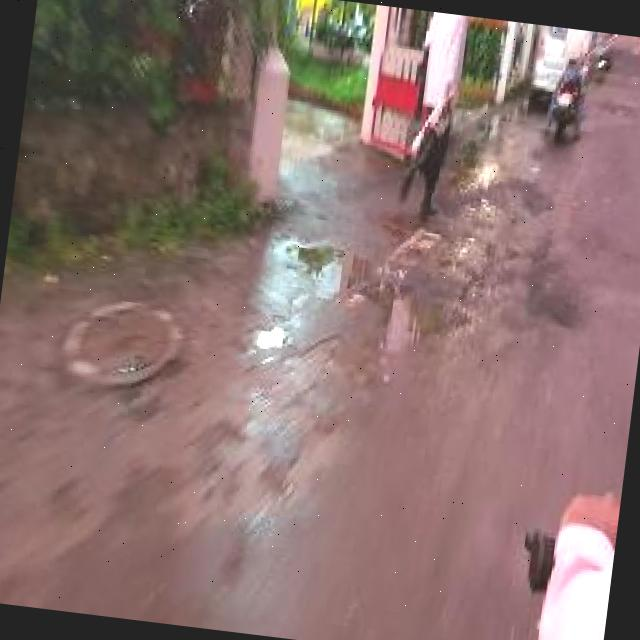stagnation: (337, 224, 498, 354), (504, 216, 602, 342)
